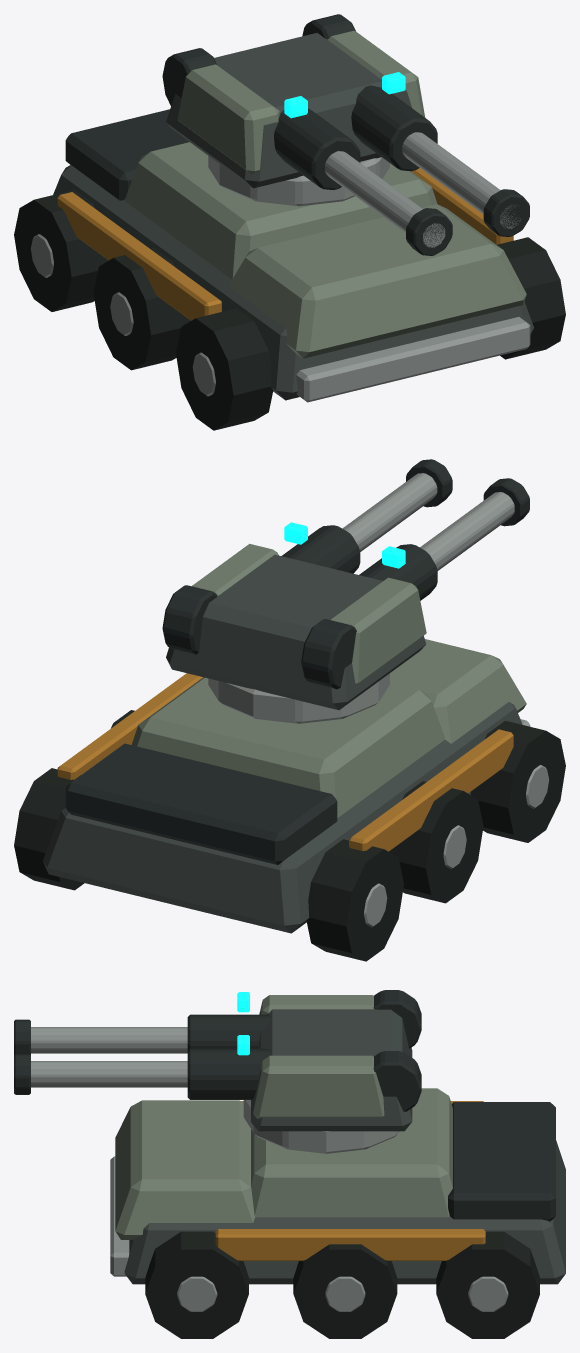
The model's file is ff_sup_01_v1.glb.
3 views of the same model, one above another, from view 1: azimuth 30°, elevation 25°; view 2: azimuth 150°, elevation 25°; view 3: azimuth 270°, elevation 25° (orthographic). The views are drawn at different scales.
Parts seen in each view (by area): view 1: FF_SUP_01_M_ArmorPanel_runtime, FF_SUP_01_M_TrackRubber_runtime, turret_yaw_M_Recess_runtime, turret_yaw_M_Gunmetal_runtime, FF_SUP_01_M_Steel_runtime, FF_SUP_01_M_Gunmetal_runtime, turret_yaw_M_Steel_runtime, turret_yaw_M_ArmorPanel_runtime, FF_SUP_01_M_AmberArmor_runtime, FF_SUP_01_M_Recess_runtime, powered_suppressor_targeting_M_CyanSignal_runtime; view 2: FF_SUP_01_M_ArmorPanel_runtime, FF_SUP_01_M_TrackRubber_runtime, FF_SUP_01_M_Gunmetal_runtime, FF_SUP_01_M_Recess_runtime, turret_yaw_M_Gunmetal_runtime, turret_yaw_M_Recess_runtime, turret_yaw_M_Steel_runtime, FF_SUP_01_M_AmberArmor_runtime, turret_yaw_M_ArmorPanel_runtime, FF_SUP_01_M_Steel_runtime, powered_suppressor_targeting_M_CyanSignal_runtime; view 3: FF_SUP_01_M_ArmorPanel_runtime, FF_SUP_01_M_TrackRubber_runtime, FF_SUP_01_M_Recess_runtime, turret_yaw_M_Steel_runtime, turret_yaw_M_Recess_runtime, FF_SUP_01_M_Gunmetal_runtime, turret_yaw_M_Gunmetal_runtime, turret_yaw_M_ArmorPanel_runtime, FF_SUP_01_M_AmberArmor_runtime, FF_SUP_01_M_Steel_runtime, powered_suppressor_targeting_M_CyanSignal_runtime.
Part boxes in pixels (<box>): FF_SUP_01_M_ArmorPanel_runtime: <box>124,142,526,358</box>; FF_SUP_01_M_TrackRubber_runtime: <box>14,190,565,430</box>; turret_yaw_M_Recess_runtime: <box>162,14,529,255</box>; turret_yaw_M_Gunmetal_runtime: <box>166,33,411,188</box>; FF_SUP_01_M_Steel_runtime: <box>30,234,530,402</box>; FF_SUP_01_M_Gunmetal_runtime: <box>53,165,533,400</box>; turret_yaw_M_Steel_runtime: <box>208,132,520,247</box>; turret_yaw_M_ArmorPanel_runtime: <box>177,30,425,174</box>; FF_SUP_01_M_AmberArmor_runtime: <box>57,168,513,320</box>; FF_SUP_01_M_Recess_runtime: <box>65,109,188,200</box>; powered_suppressor_targeting_M_CyanSignal_runtime: <box>284,72,405,118</box>; FF_SUP_01_M_ArmorPanel_runtime: <box>131,639,526,817</box>; FF_SUP_01_M_TrackRubber_runtime: <box>14,710,565,961</box>; FF_SUP_01_M_Gunmetal_runtime: <box>43,702,522,933</box>; FF_SUP_01_M_Recess_runtime: <box>65,743,337,864</box>; turret_yaw_M_Gunmetal_runtime: <box>166,554,426,710</box>; turret_yaw_M_Recess_runtime: <box>162,459,529,689</box>; turret_yaw_M_Steel_runtime: <box>208,473,514,723</box>; FF_SUP_01_M_AmberArmor_runtime: <box>57,673,513,851</box>; turret_yaw_M_ArmorPanel_runtime: <box>192,543,426,684</box>; FF_SUP_01_M_Steel_runtime: <box>364,719,549,927</box>; powered_suppressor_targeting_M_CyanSignal_runtime: <box>284,522,405,568</box>; FF_SUP_01_M_ArmorPanel_runtime: <box>115,1088,452,1239</box>; FF_SUP_01_M_TrackRubber_runtime: <box>145,1231,539,1338</box>; FF_SUP_01_M_Recess_runtime: <box>448,1102,555,1221</box>; turret_yaw_M_Steel_runtime: <box>31,1027,399,1153</box>; turret_yaw_M_Recess_runtime: <box>14,990,421,1111</box>; FF_SUP_01_M_Gunmetal_runtime: <box>124,1140,565,1284</box>; turret_yaw_M_Gunmetal_runtime: <box>251,1009,412,1131</box>; turret_yaw_M_ArmorPanel_runtime: <box>253,995,384,1118</box>; FF_SUP_01_M_AmberArmor_runtime: <box>215,1101,485,1260</box>; FF_SUP_01_M_Steel_runtime: <box>110,1156,508,1311</box>; powered_suppressor_targeting_M_CyanSignal_runtime: <box>237,992,249,1055</box>.
Bounding box in the file's own units: 3.29 × 2.6 × 5.21.
